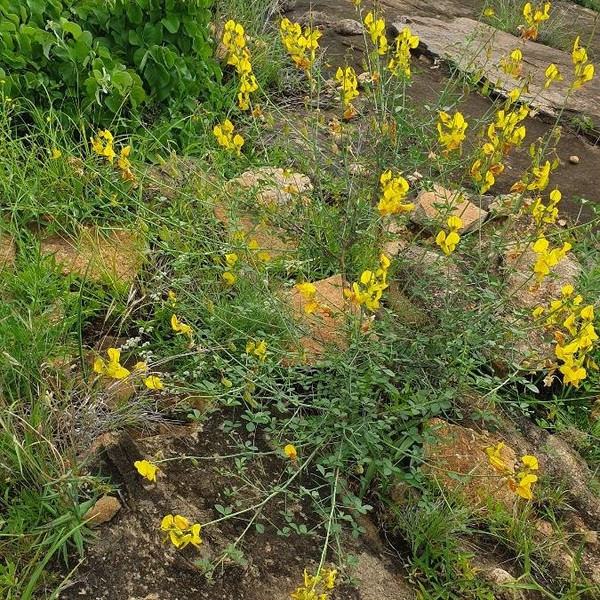obstacle: (153, 86, 543, 530)
